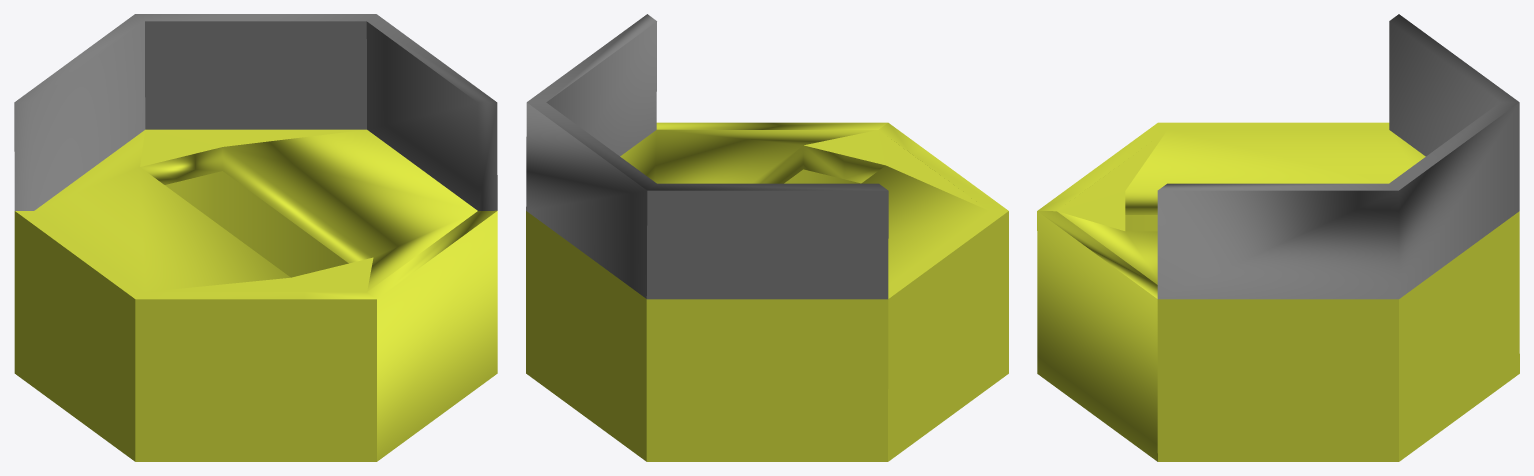
Rendered from ResourceTileStage2_3.fbx.
3 renders of one model, left to right at view 1: azimuth 30°, elevation 25°; view 2: azimuth 150°, elevation 25°; view 3: azimuth 270°, elevation 25°, orthographic.
Visible parts, largest first — view 1: ResourceTileStage2_3; view 2: ResourceTileStage2_3; view 3: ResourceTileStage2_3.
Part boxes in pixels (left/top/right/bottom): ResourceTileStage2_3: left=14, top=14, right=497, bottom=461; ResourceTileStage2_3: left=526, top=14, right=1008, bottom=461; ResourceTileStage2_3: left=1037, top=14, right=1519, bottom=461.
Size of the model in its own units: 173 by 124 by 200.
